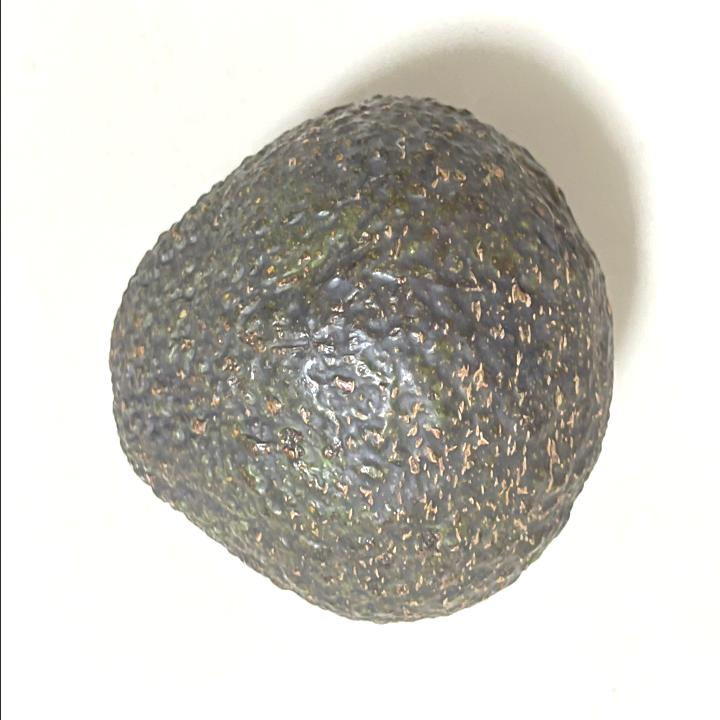Level2: (105, 86, 620, 628)
